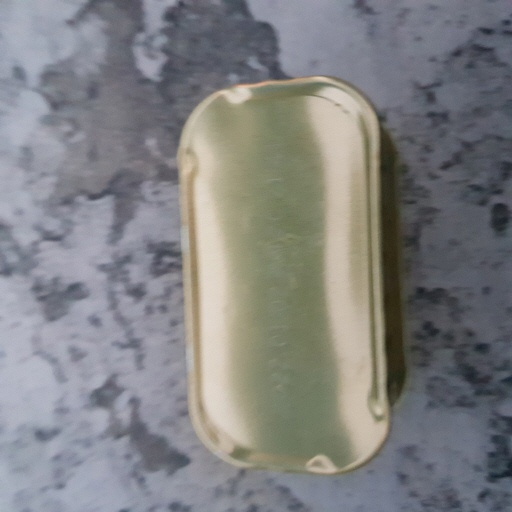Metal_2: (172, 77, 400, 477)
